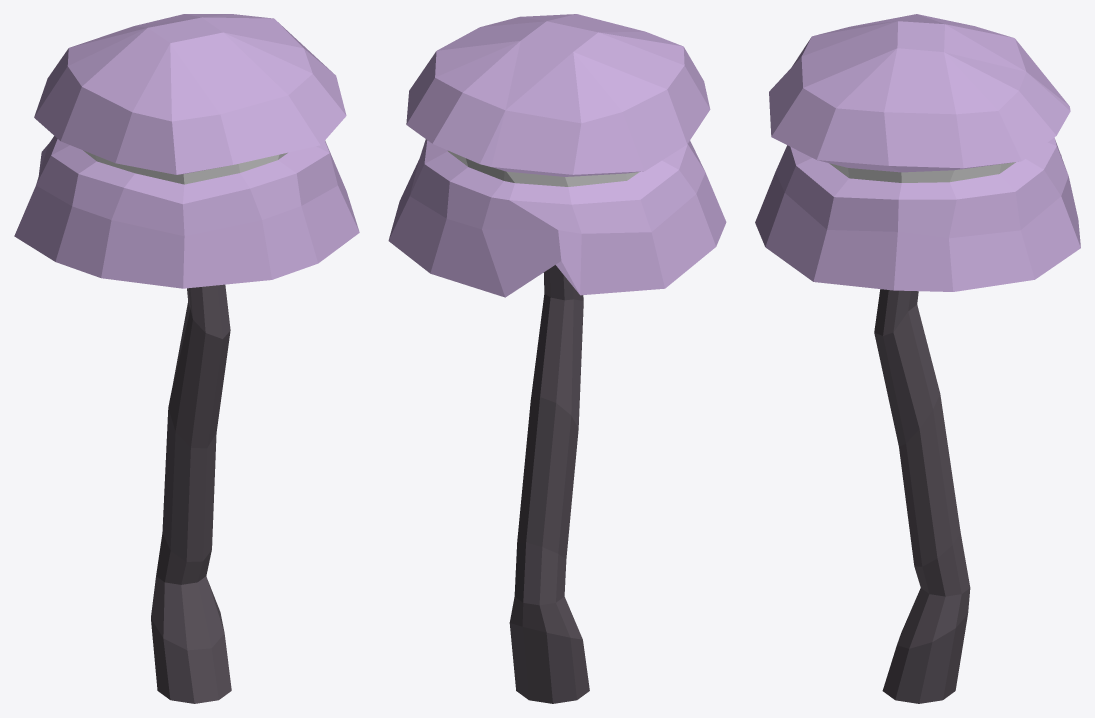
Rendered from Pomp02.fbx.
The picture shows the model from 3 angles, left to right: view 1: azimuth 30°, elevation 25°; view 2: azimuth 150°, elevation 25°; view 3: azimuth 270°, elevation 25°; orthographic projection.
Parts seen in each view (by area): view 1: Pomp02; view 2: Pomp02; view 3: Pomp02.
Boxes of the visible parts, x1,y1,x2,y2 form: Pomp02: [14, 14, 359, 703]; Pomp02: [388, 14, 726, 703]; Pomp02: [755, 14, 1080, 703].
Size of the model in its own units: 8.51 by 18.48 by 8.39.
